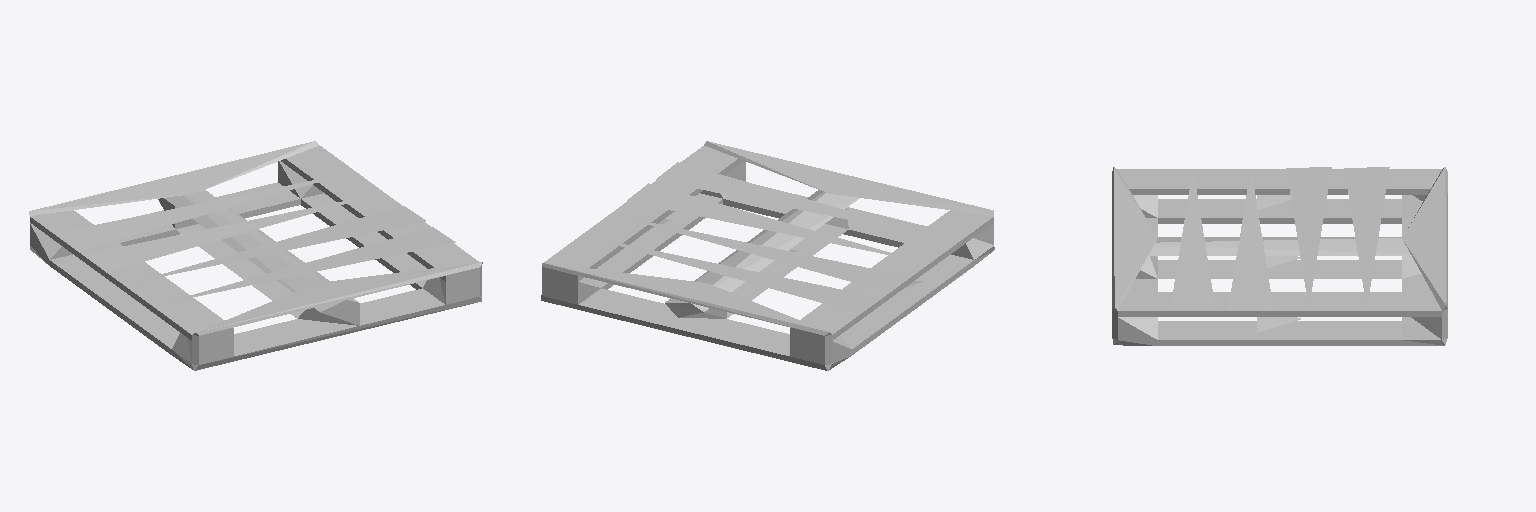
File: palette_LoD_4.obj
3 renders of one model, left to right at view 1: azimuth 30°, elevation 25°; view 2: azimuth 150°, elevation 25°; view 3: azimuth 270°, elevation 25°, orthographic.
Visible parts, largest first — view 1: SM_WoodenPalette_Mesh; view 2: SM_WoodenPalette_Mesh; view 3: SM_WoodenPalette_Mesh.
Boxes of the visible parts, x1=… form: SM_WoodenPalette_Mesh: x1=29, y1=141, x2=482, y2=370; SM_WoodenPalette_Mesh: x1=541, y1=141, x2=994, y2=370; SM_WoodenPalette_Mesh: x1=1112, y1=167, x2=1447, y2=345.
Size of the model in its own units: 1.25 by 0.16 by 1.25.